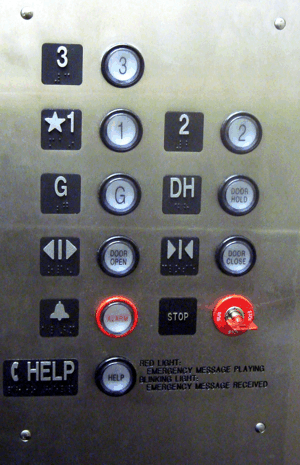button: (1, 357, 139, 398), (39, 40, 146, 89), (39, 106, 145, 154), (38, 171, 143, 218), (162, 109, 265, 156), (38, 294, 140, 340), (38, 235, 141, 279), (161, 173, 261, 217), (159, 234, 258, 277)
